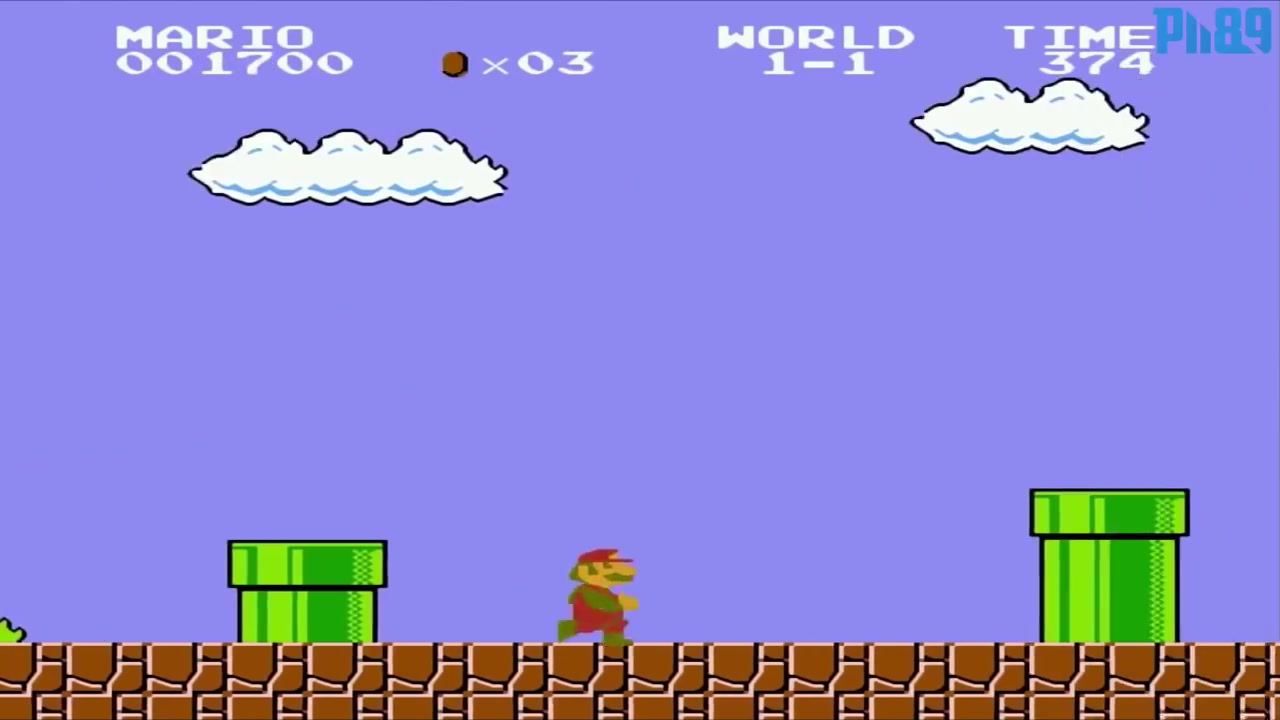mario: (546, 542, 642, 646)
